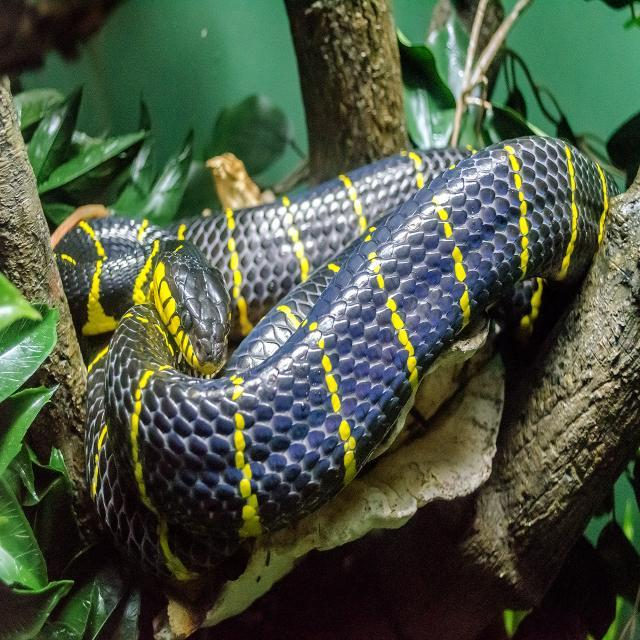Snake: (42, 97, 628, 570)
